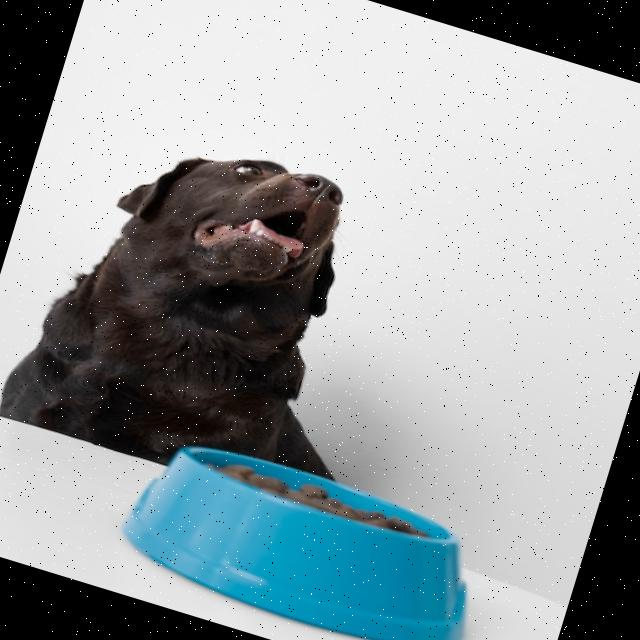Dog: (0, 103, 421, 518)
